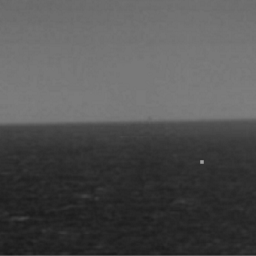Target: (197, 158, 206, 165)
